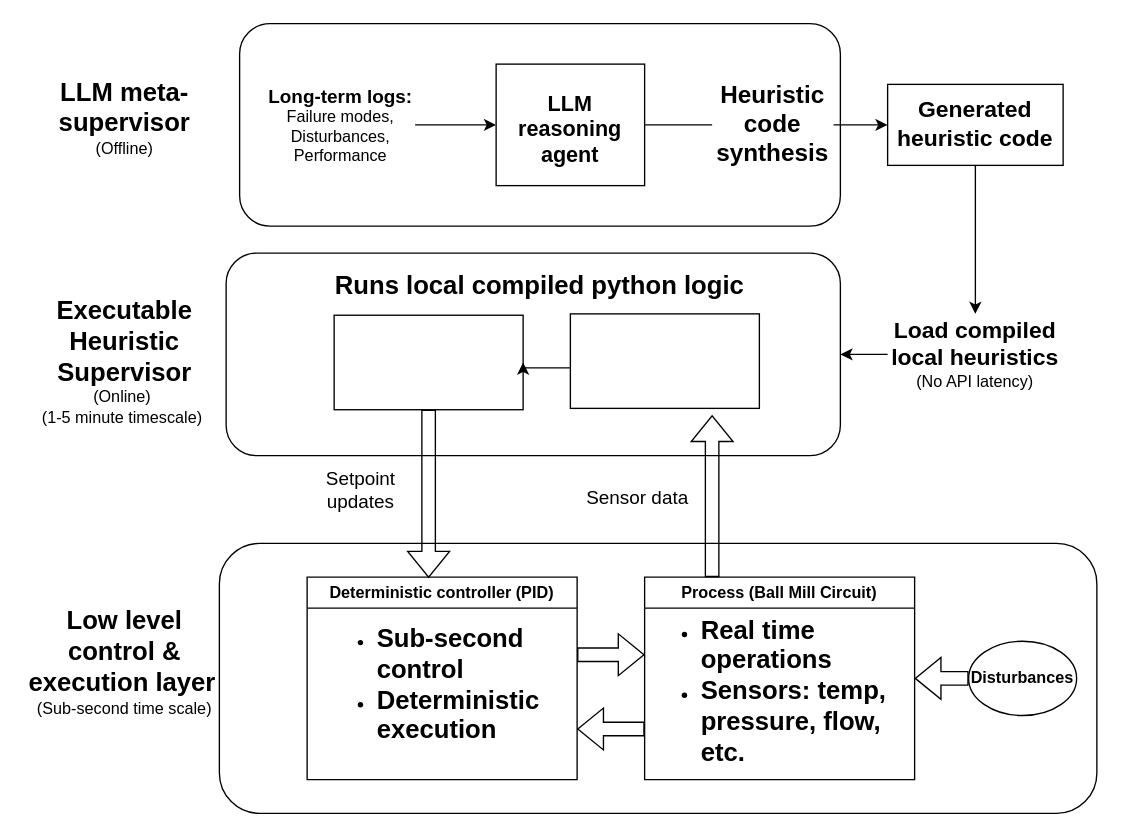
The diagram is 1121 pixels wide and 837 high, and some of its shapes have lost their labels. Here are the shapes that lost their labels. From the top down, the centre of each, then its label:
At (x=428, y=362): "Dynamic set-point optimization".
At (x=664, y=360): "Process Monitoring".
